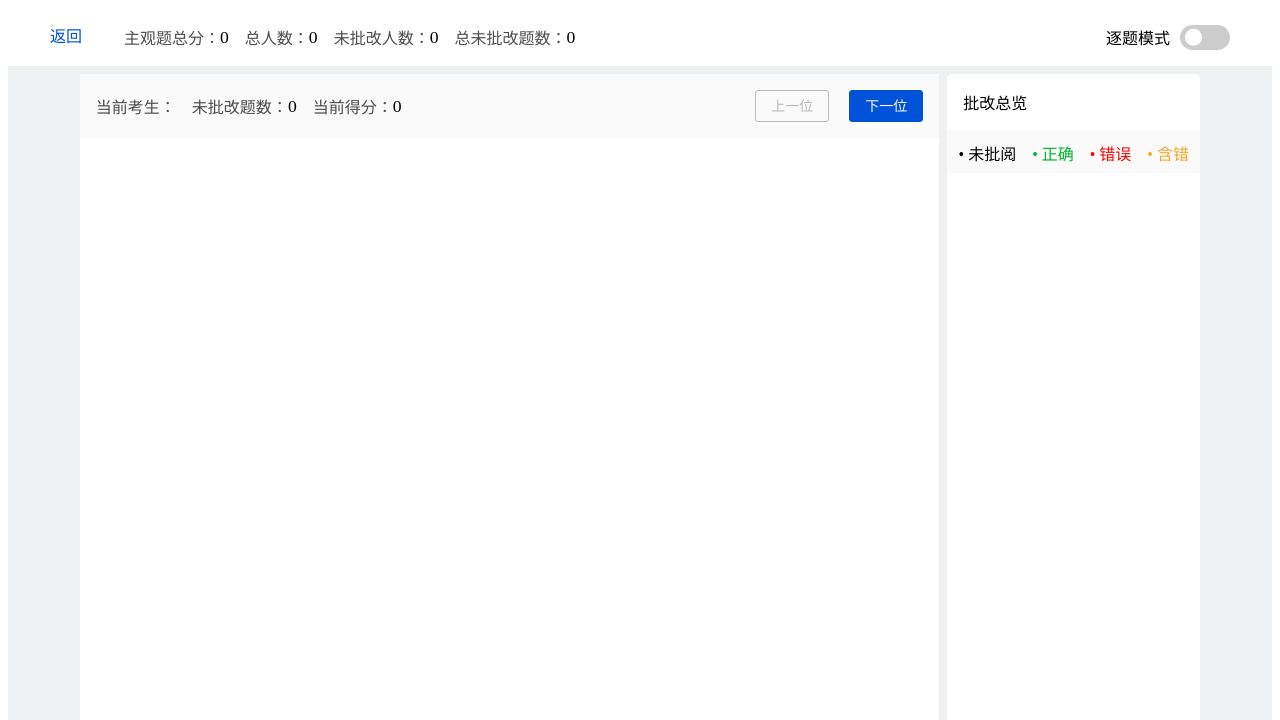
Test: 批改页面测试 › 考生切换功能测试 › 应正确切换到上一位考生（全卷模式）
The image size is (1280, 720).
先切换到下一位 
Click the button "下一位" at (886, 106), box [849,90,923,122]
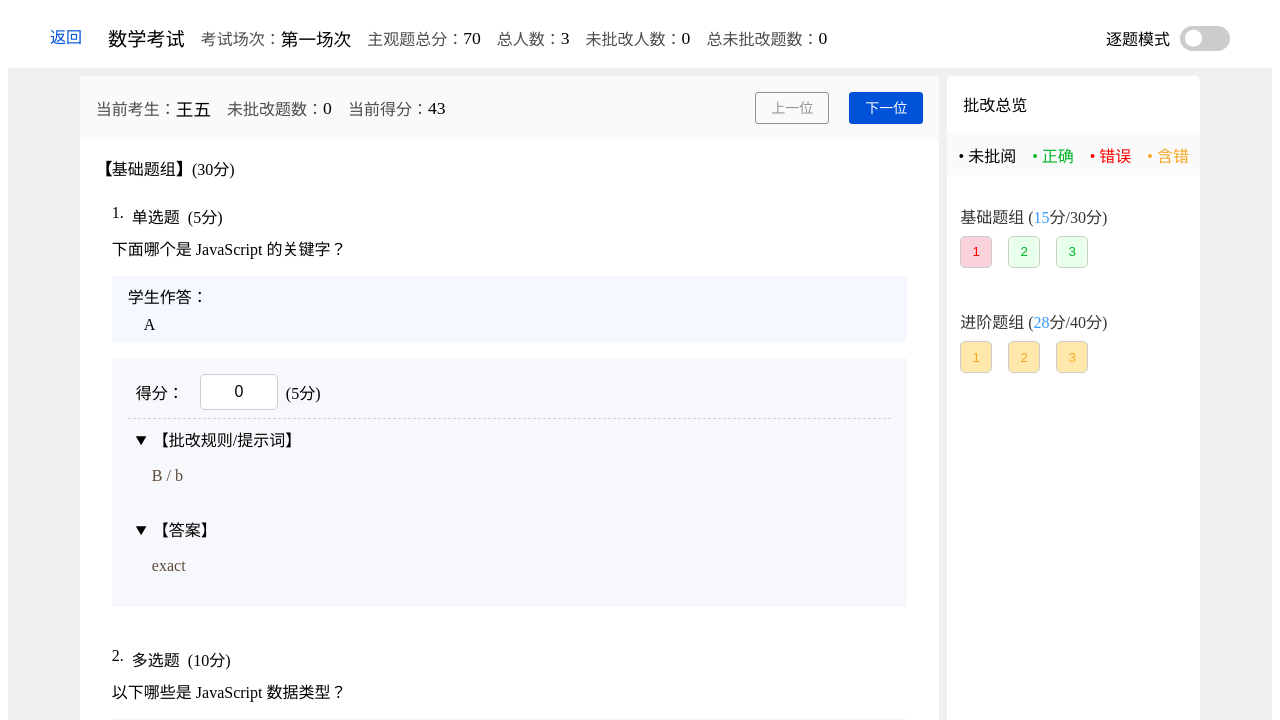
Expected: the text "王五" is shown, [176,96,211,120]
再切换回上一位 
Click the button "上一位" at (792, 108), box [755,92,829,124]
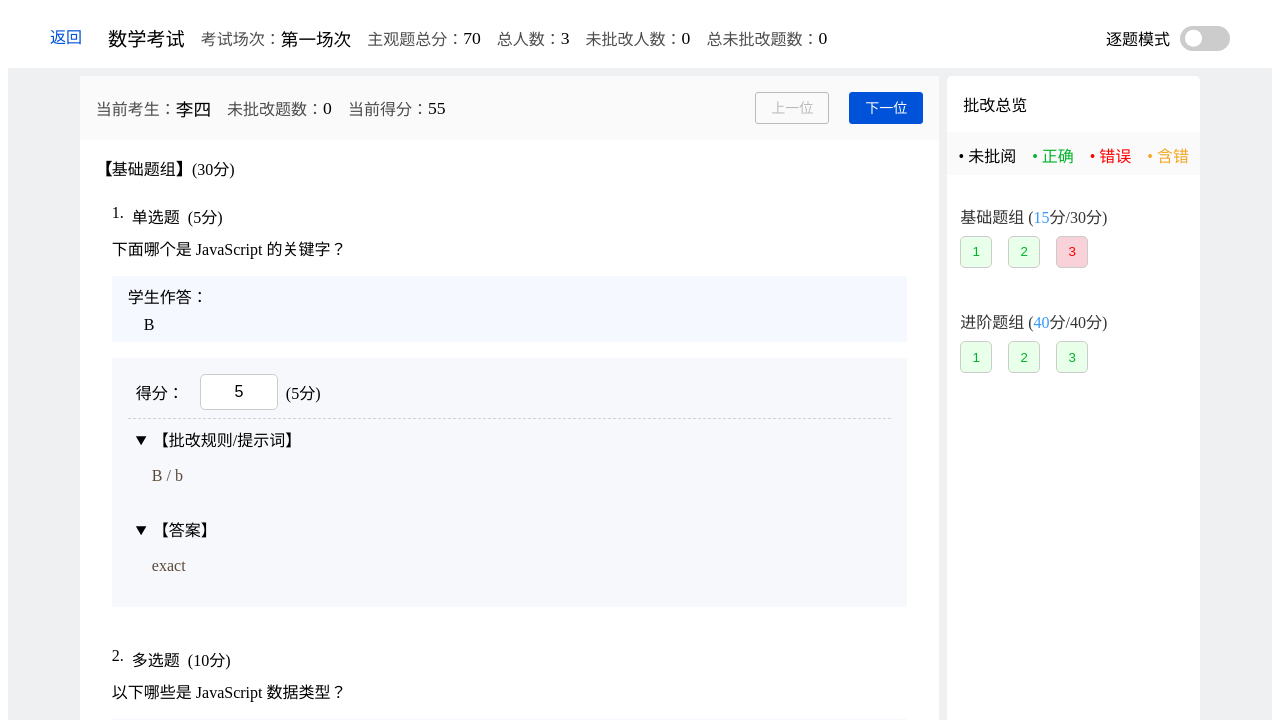
Expected: the text "李四" is shown, [176,96,211,120]
